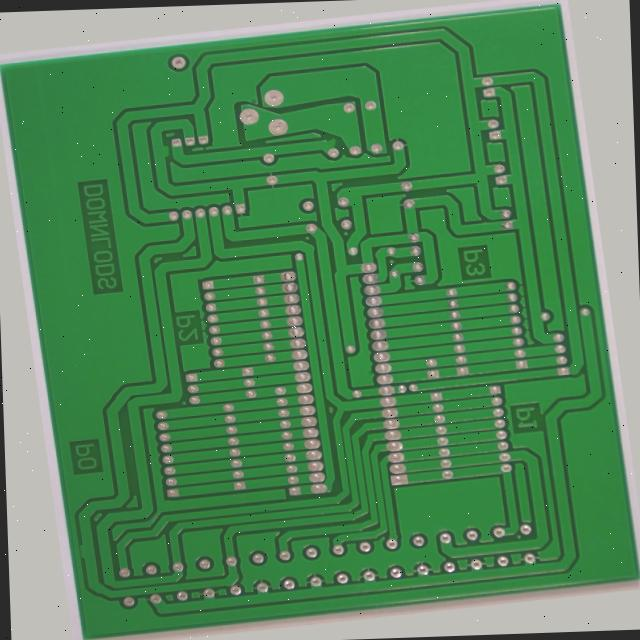spur: (341, 122, 364, 139), (161, 117, 177, 138), (26, 536, 40, 557)
